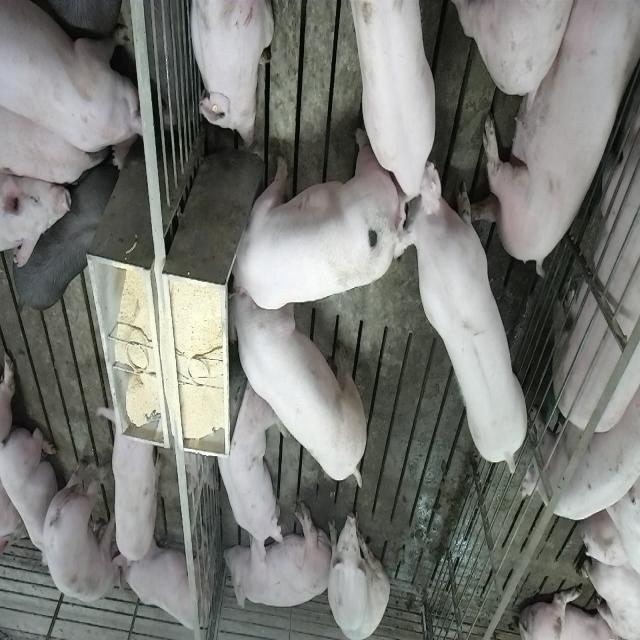Feeding: (220, 128, 398, 310), (229, 280, 372, 497)
Lateral_lying: (471, 1, 637, 274), (223, 498, 333, 612)
Sitting: (326, 503, 390, 638)
Standing: (394, 162, 528, 484), (551, 0, 640, 440), (2, 0, 143, 160), (349, 0, 439, 203), (9, 158, 119, 312), (522, 388, 640, 528), (34, 451, 120, 608), (100, 398, 160, 572)
Sternal_lying: (186, 0, 274, 150), (212, 380, 280, 557), (118, 532, 214, 636), (1, 426, 64, 566)
